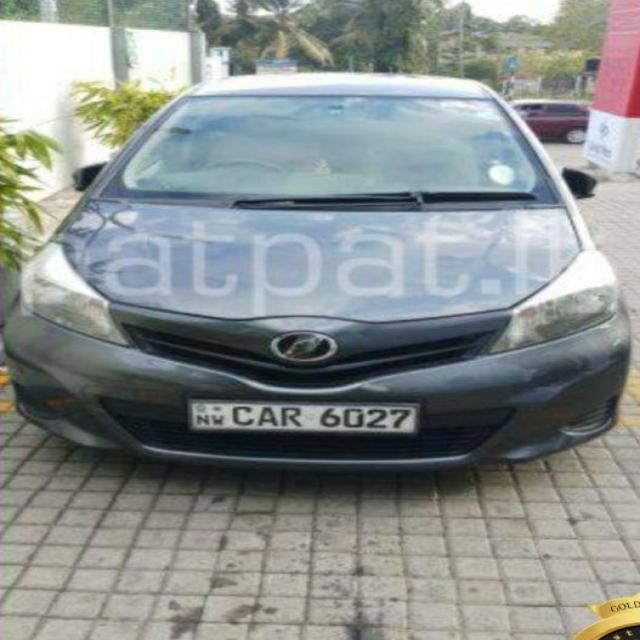license-plate: (190, 401, 414, 432)
